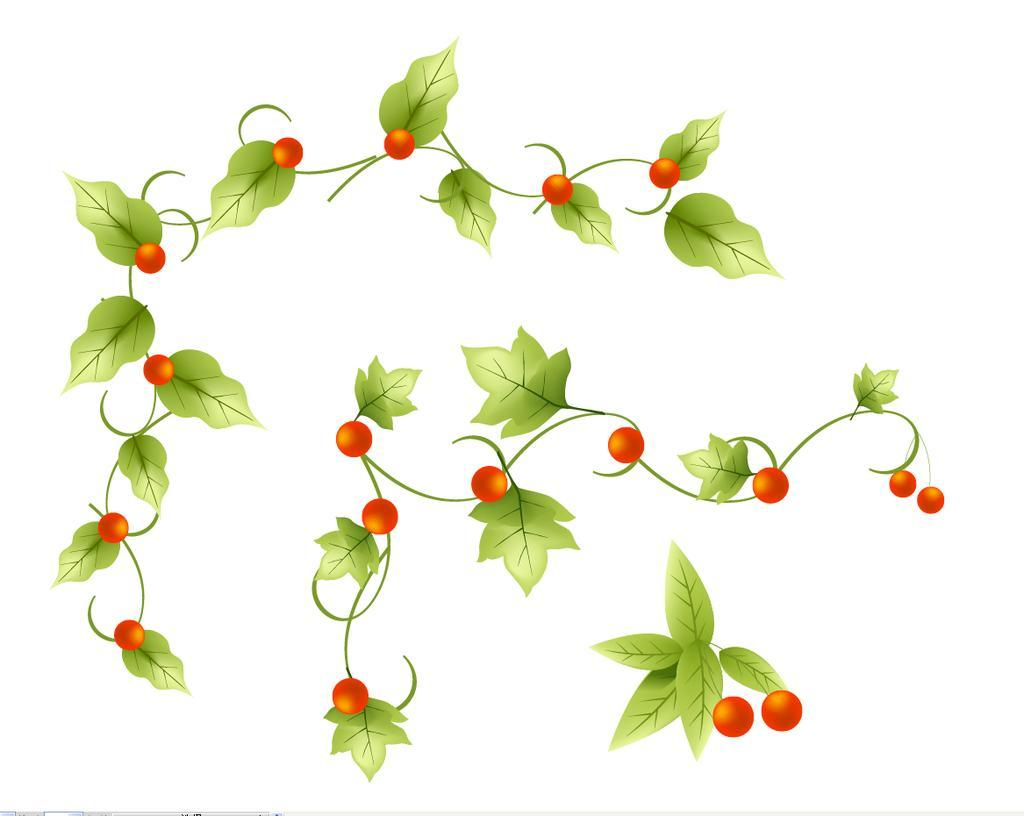apple: (712, 695, 753, 738), (329, 678, 367, 715)
